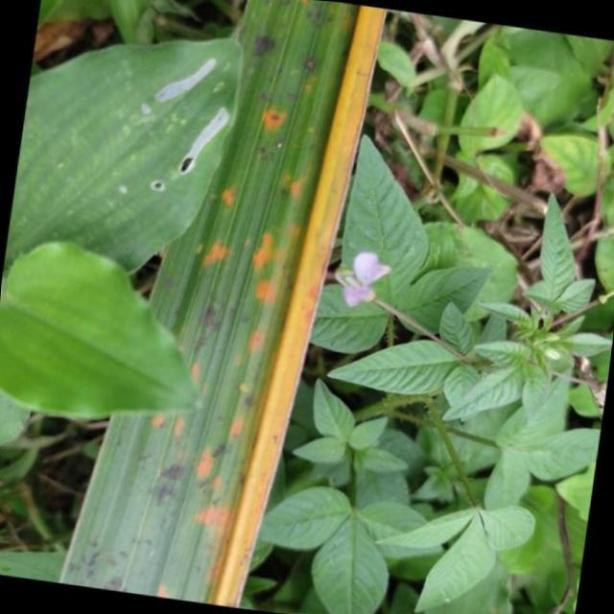Megnesium: (56, 0, 389, 614)
